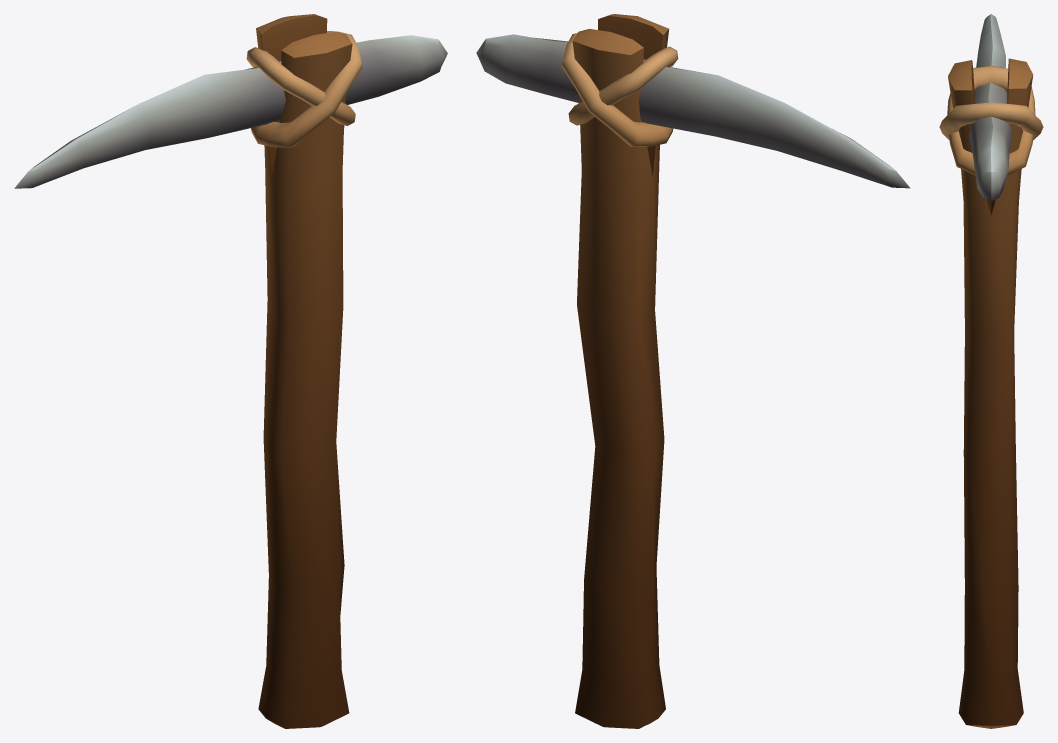
The model's file is Pickaxe_01.obj.
3 views of the same model, side by side, from view 1: azimuth 30°, elevation 25°; view 2: azimuth 150°, elevation 25°; view 3: azimuth 270°, elevation 25° (orthographic). The views are drawn at different scales.
Parts seen in each view (by area): view 1: Pickaxe_01; view 2: Pickaxe_01; view 3: Pickaxe_01.
Boxes of the visible parts, <box> form: Pickaxe_01: <box>14,14,447,728</box>; Pickaxe_01: <box>476,14,910,728</box>; Pickaxe_01: <box>939,14,1043,728</box>.
Bounding box in the file's own units: 0.6727 × 1.03 × 0.1489.
